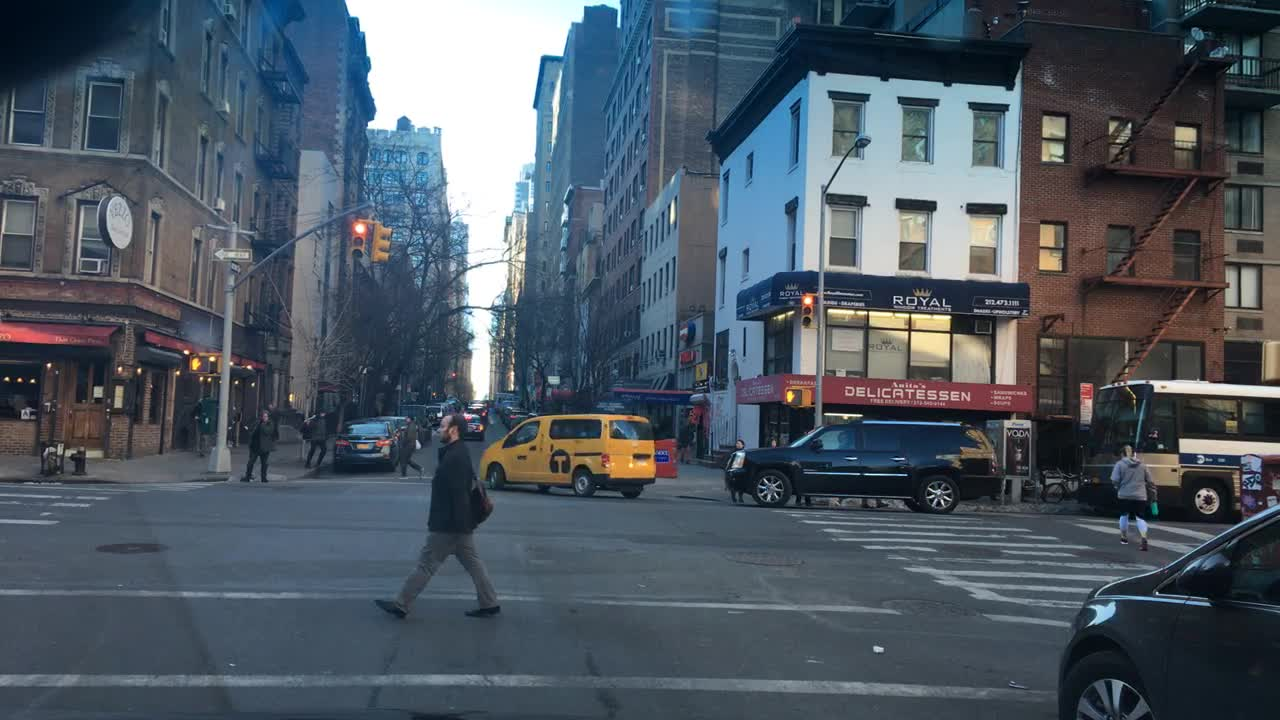bike: (1040, 469, 1098, 502)
bus: (1080, 377, 1279, 524)
car: (1056, 503, 1278, 717), (723, 418, 1008, 515), (479, 411, 658, 499), (332, 418, 403, 473), (373, 413, 418, 454), (395, 402, 435, 447), (461, 412, 487, 440), (507, 414, 541, 433), (502, 405, 532, 426), (504, 409, 530, 431), (494, 391, 517, 413), (422, 403, 449, 421), (499, 399, 520, 417), (436, 400, 458, 413), (464, 405, 490, 415), (429, 401, 457, 410), (444, 396, 462, 408), (467, 402, 490, 407), (469, 398, 488, 403), (444, 392, 460, 397)
person: (373, 412, 503, 620), (1108, 443, 1161, 553), (240, 409, 282, 484), (298, 405, 331, 470), (395, 412, 426, 478), (723, 438, 747, 504), (676, 417, 695, 465), (859, 494, 890, 510), (794, 491, 815, 507), (768, 436, 781, 449)
traffic light: (369, 222, 393, 265), (350, 213, 371, 261), (188, 349, 224, 376), (782, 384, 815, 409), (798, 290, 817, 330), (448, 371, 459, 378)
traffic sign: (210, 247, 253, 262), (227, 261, 243, 275), (546, 375, 560, 385)
